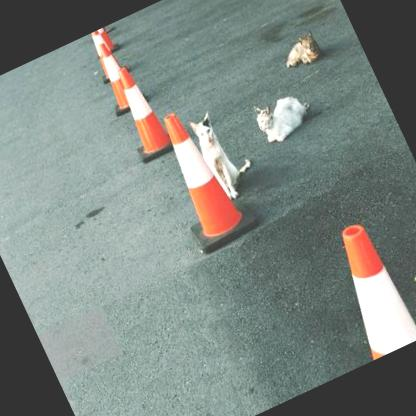cone: (142, 100, 262, 258), (317, 217, 415, 361), (102, 60, 177, 162), (90, 38, 142, 116)
